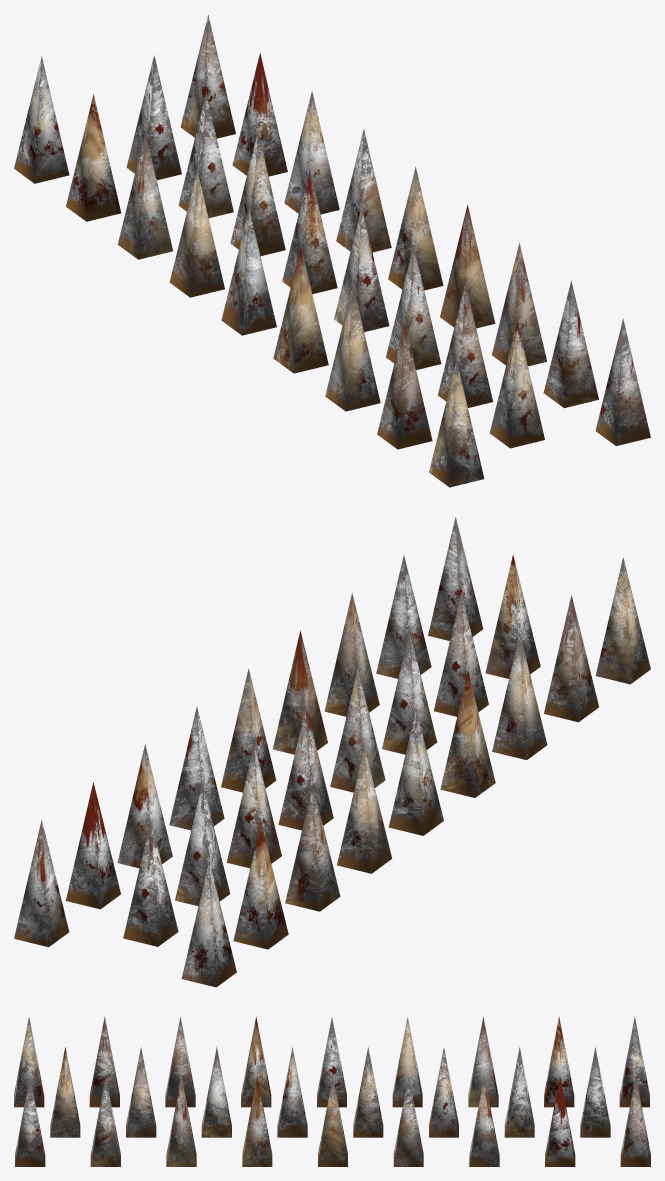
File: Pinchos.obj
The picture shows the model from 3 angles, top to bottom: view 1: azimuth 30°, elevation 25°; view 2: azimuth 150°, elevation 25°; view 3: azimuth 270°, elevation 25°; orthographic projection. The views are drawn at different scales.
Parts seen in each view (by area): view 1: Pinchos; view 2: Pinchos; view 3: Pinchos.
Part boxes in pixels (x1,y1,x2,y2): Pinchos: [14, 15, 650, 487]; Pinchos: [14, 517, 650, 987]; Pinchos: [14, 1016, 650, 1166].
Size of the model in its own units: 4.43 by 2.43 by 16.56.
1 material, 1 textured.
